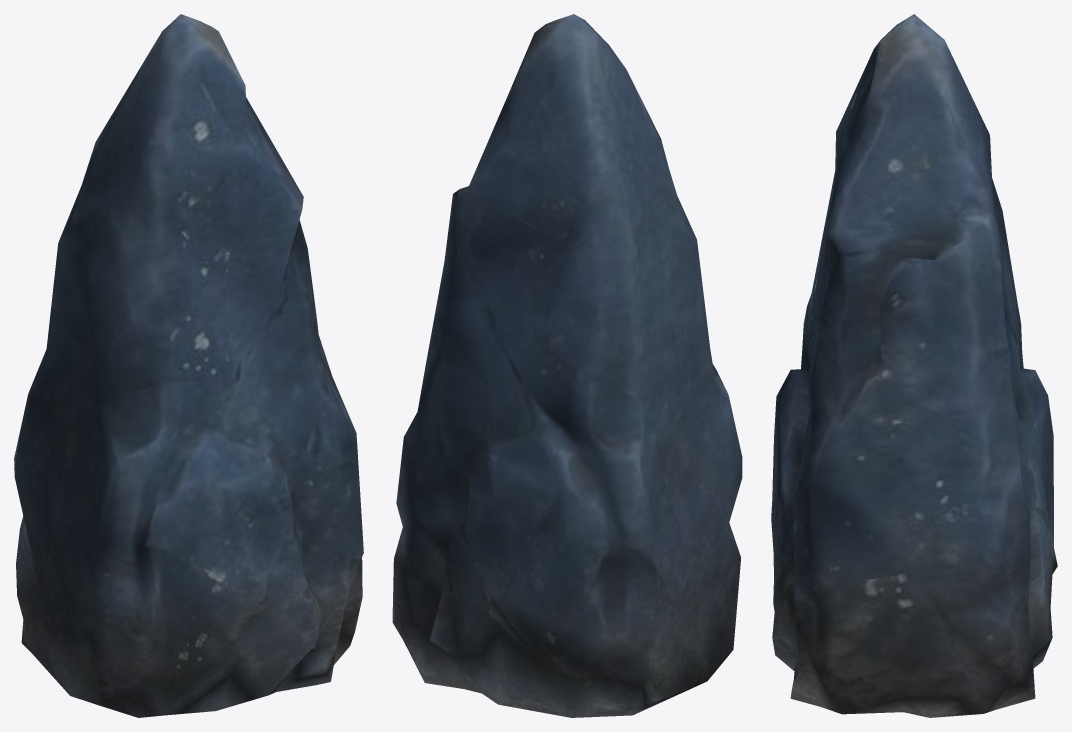
The model's file is bluestone_lo.glb.
3 renders of one model, left to right at view 1: azimuth 30°, elevation 25°; view 2: azimuth 150°, elevation 25°; view 3: azimuth 270°, elevation 25°, orthographic.
Visible parts, largest first — view 1: tripo_node_b6a87169-9f74-4990-a0b6-ca219efd5608; view 2: tripo_node_b6a87169-9f74-4990-a0b6-ca219efd5608; view 3: tripo_node_b6a87169-9f74-4990-a0b6-ca219efd5608.
Part boxes in pixels (left/top/right/bottom): tripo_node_b6a87169-9f74-4990-a0b6-ca219efd5608: left=14, top=14, right=363, bottom=717; tripo_node_b6a87169-9f74-4990-a0b6-ca219efd5608: left=392, top=14, right=742, bottom=717; tripo_node_b6a87169-9f74-4990-a0b6-ca219efd5608: left=771, top=14, right=1057, bottom=717.
Size of the model in its own units: 0.414 by 0.9818 by 0.3973.
1 material, 1 textured.
